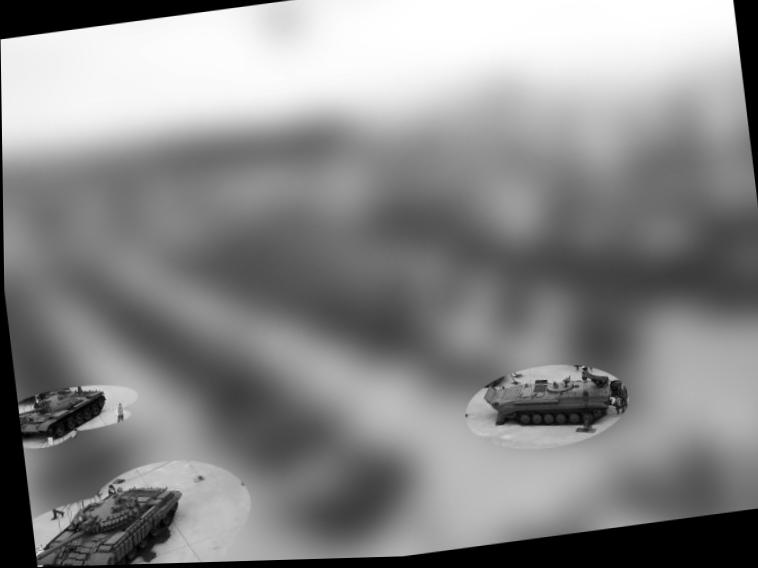armored_car: (476, 353, 632, 442)
tank: (27, 475, 187, 567), (15, 378, 113, 446)
